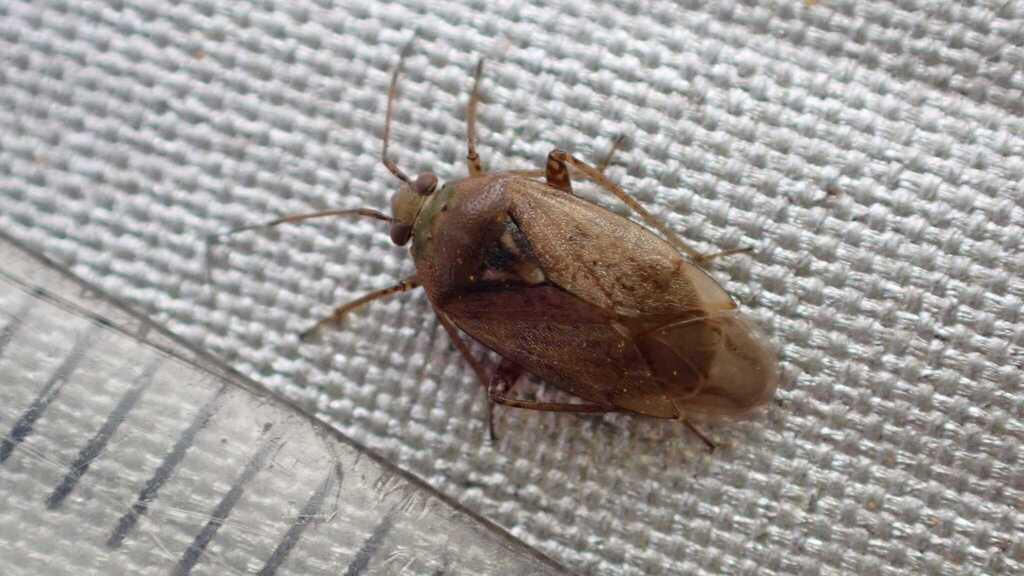plant_bugs: (181, 0, 843, 539)
